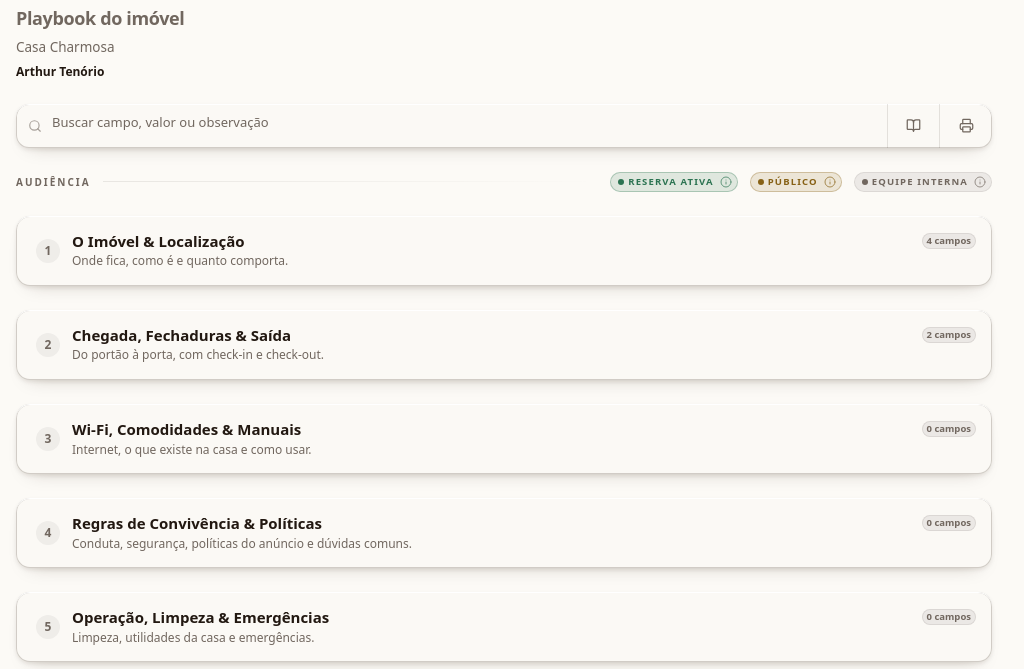
Test case: PlaybookPage › abre tudo recolhido, mostra o proprietário e abre uma seção por vez
The image size is (1024, 669).
Expected: the text "Arthur Tenório" is shown, [16, 64, 104, 80]
Expected: the text "Link do mapa" is not shown
Click the button that starts with "O Imóvel & Localização".
click(158, 241)  # box [36, 231, 976, 269]
(page scrolled)
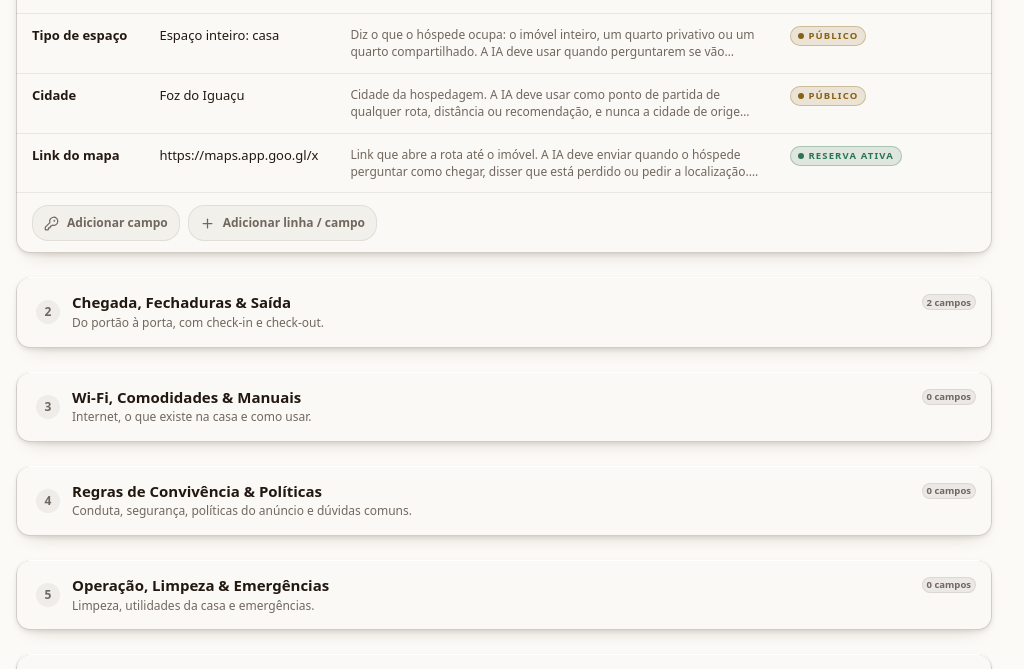
Expected: the text "Link do mapa" is shown, [32, 146, 120, 164]
Click the button that starts with "Chegada, Fechaduras & Saída".
click(182, 302)  # box [36, 292, 976, 331]
(page scrolled)
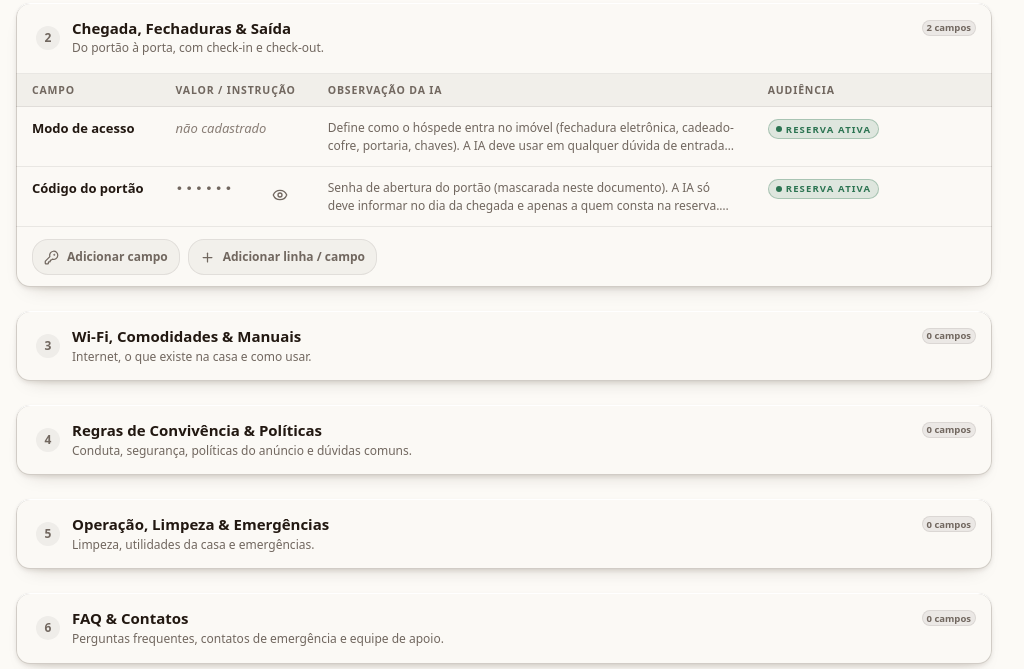
Expected: the text "Link do mapa" is gone
Expected: the text "Código do portão" is shown, [32, 179, 144, 197]
